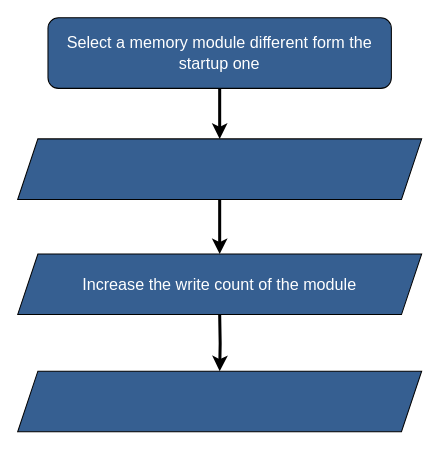
Some shapes in this 439 by 449 pixel diagram are drawn without their labels. Each missing label, with the box of its shape:
Compute the checksum and store it in the module: (17, 370, 422, 432)
Copy data from the volatile memory to the module: (17, 138, 422, 199)
